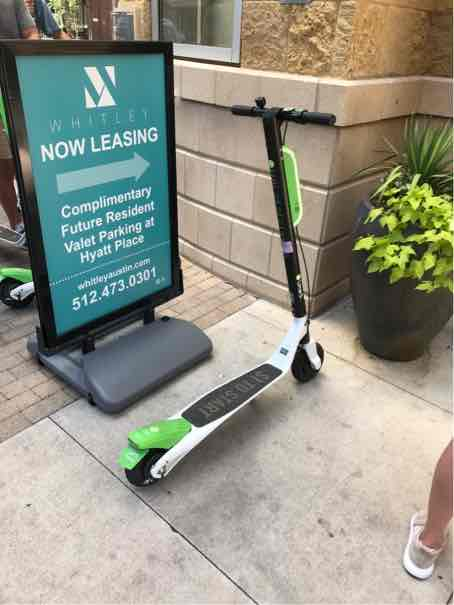scooter: (111, 92, 346, 500)
